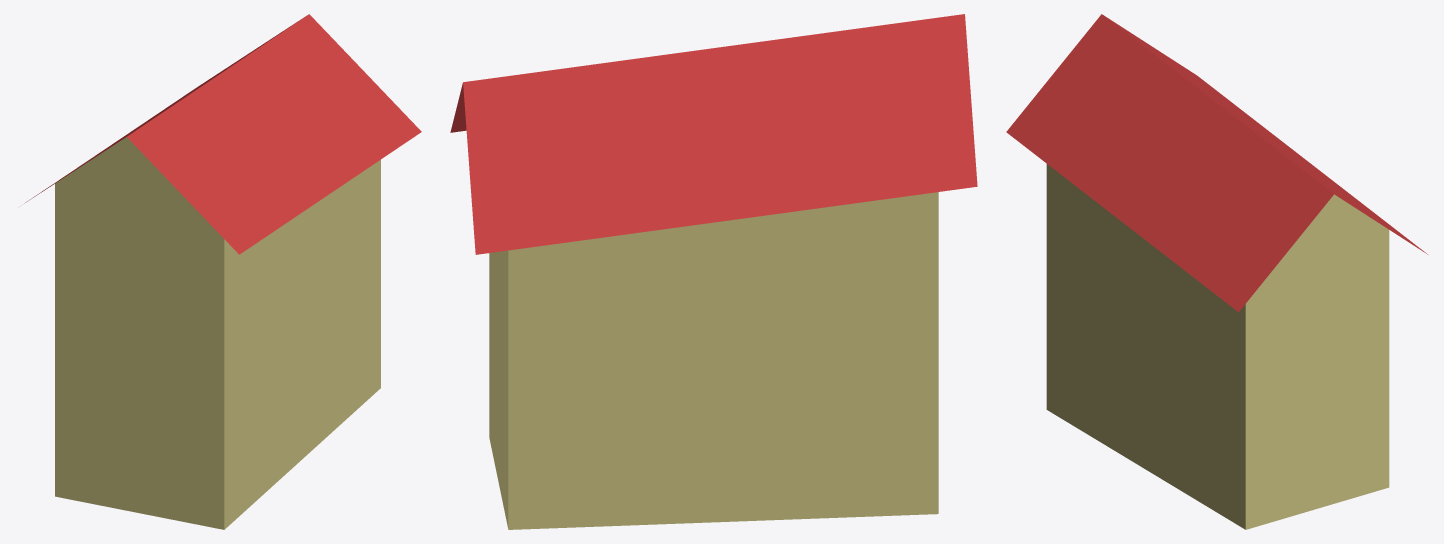
The picture shows the model from 3 angles, left to right: view 1: azimuth 30°, elevation 25°; view 2: azimuth 150°, elevation 25°; view 3: azimuth 270°, elevation 25°; orthographic projection. The views are drawn at different scales.
Bounding box in the file's own units: 8.03 × 7.3 × 6.93.
